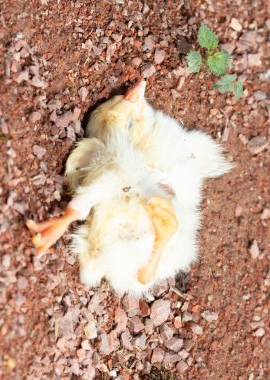Unhealthy: (25, 75, 235, 303)
